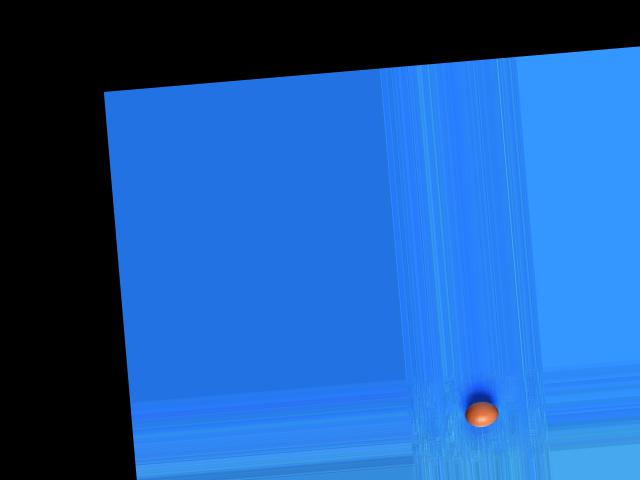egg: (464, 398, 499, 428)
